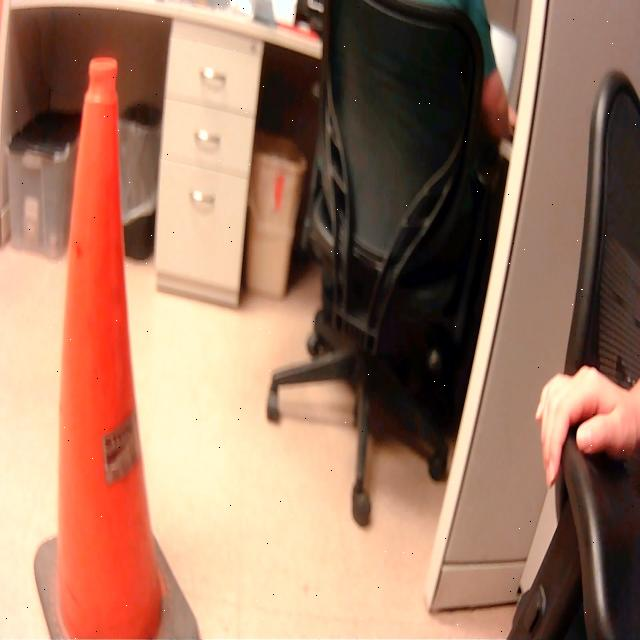traffic cone: (26, 43, 206, 640)
